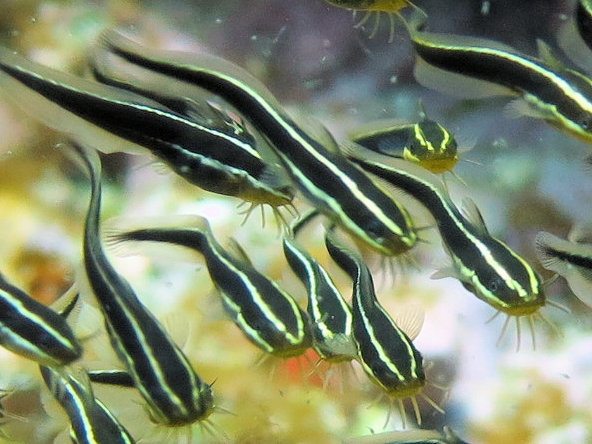gonzui: (48, 140, 234, 429)
